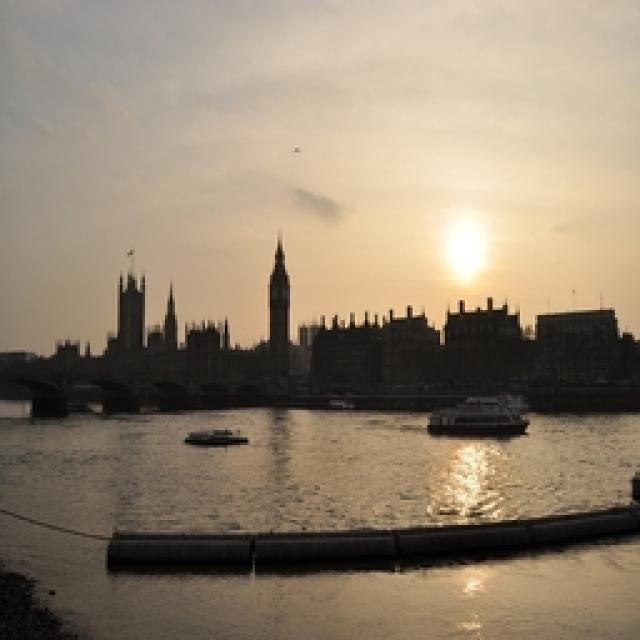Abbey: (45, 264, 640, 429)
